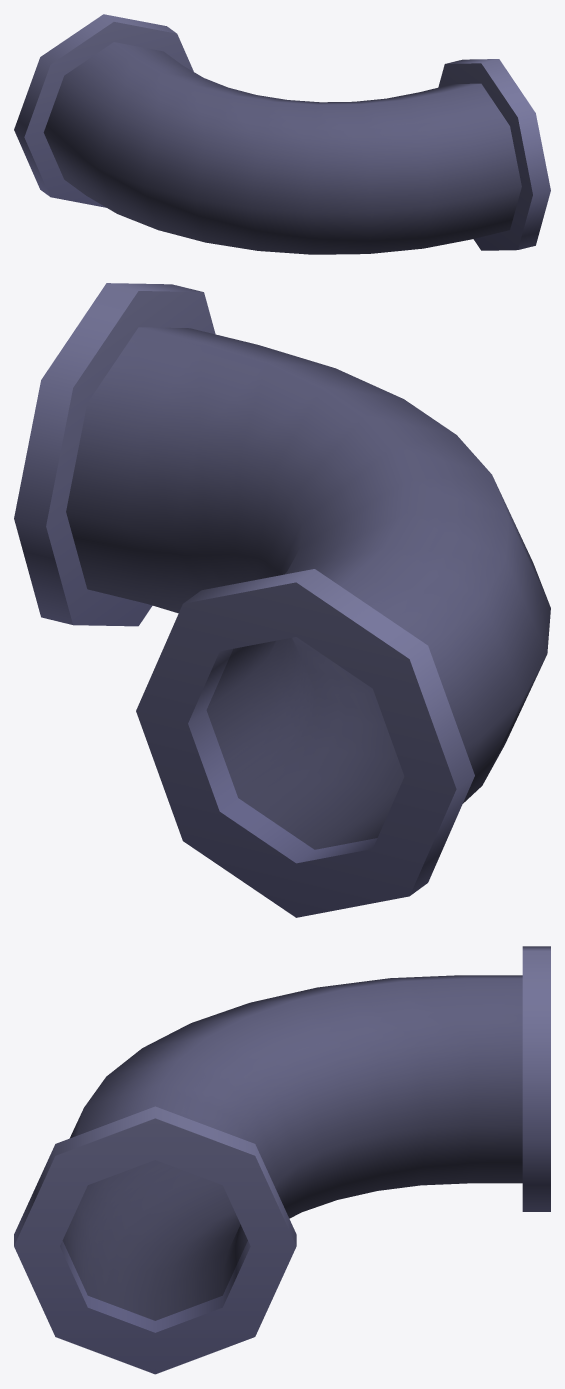
The model's file is kenney-factory-pipe-large-bend.glb.
3 renders of one model, top to bottom at view 1: azimuth 30°, elevation 25°; view 2: azimuth 150°, elevation 25°; view 3: azimuth 270°, elevation 25°, orthographic. The views are drawn at different scales.
Visible parts, largest first — view 1: pipe-large-bend; view 2: pipe-large-bend; view 3: pipe-large-bend.
Part boxes in pixels (x1,y1,x2,y2): pipe-large-bend: (14, 14, 550, 254); pipe-large-bend: (14, 283, 550, 917); pipe-large-bend: (14, 946, 550, 1374).
Size of the model in its own units: 2.85 by 1.5 by 2.85.
Materials: 1 (1 with a texture image).
